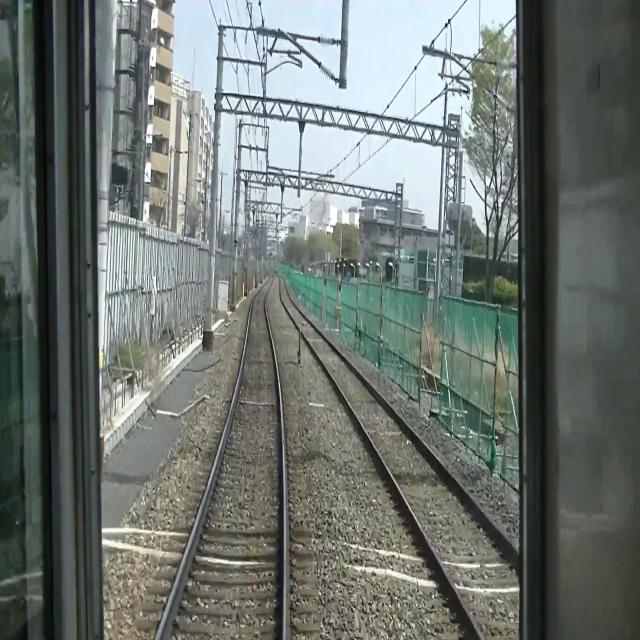rail-track: (279, 276, 516, 639)
